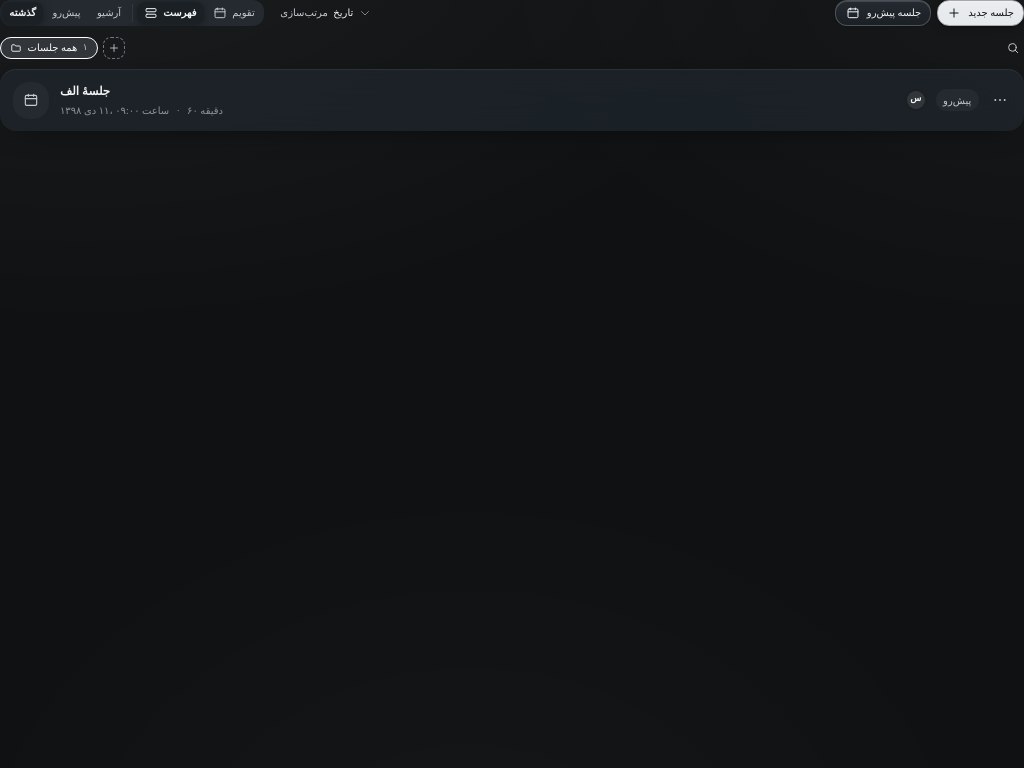
Scenario: Meetings › the row menu's two destructive entries are not the same word
Expected: the text "جلسهٔ الف" is shown, [60,84,110,98]
Click the button named "گزینه‌ها" at (1000, 100), box [990,89,1011,111]
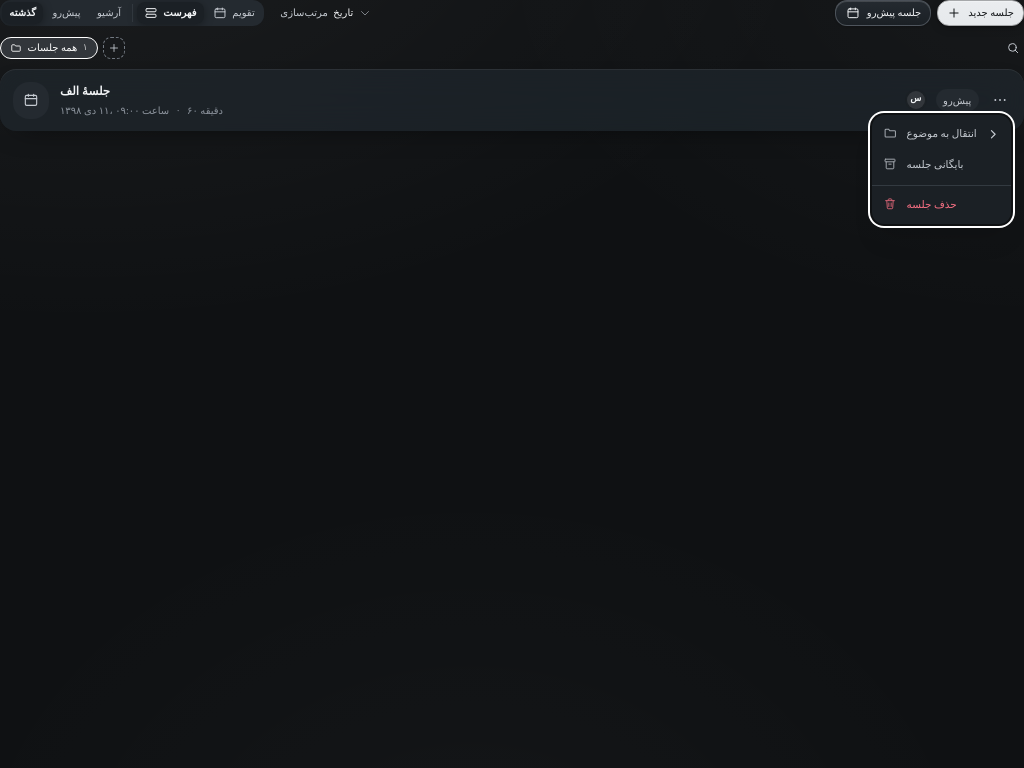
Expected: the menu item "بایگانی جلسه" does not show "حذف جلسه"
# and the confirmation agrees with the entry that opened it
Click the menu item "حذف جلسه" at (920, 204), box [883,197,957,211]
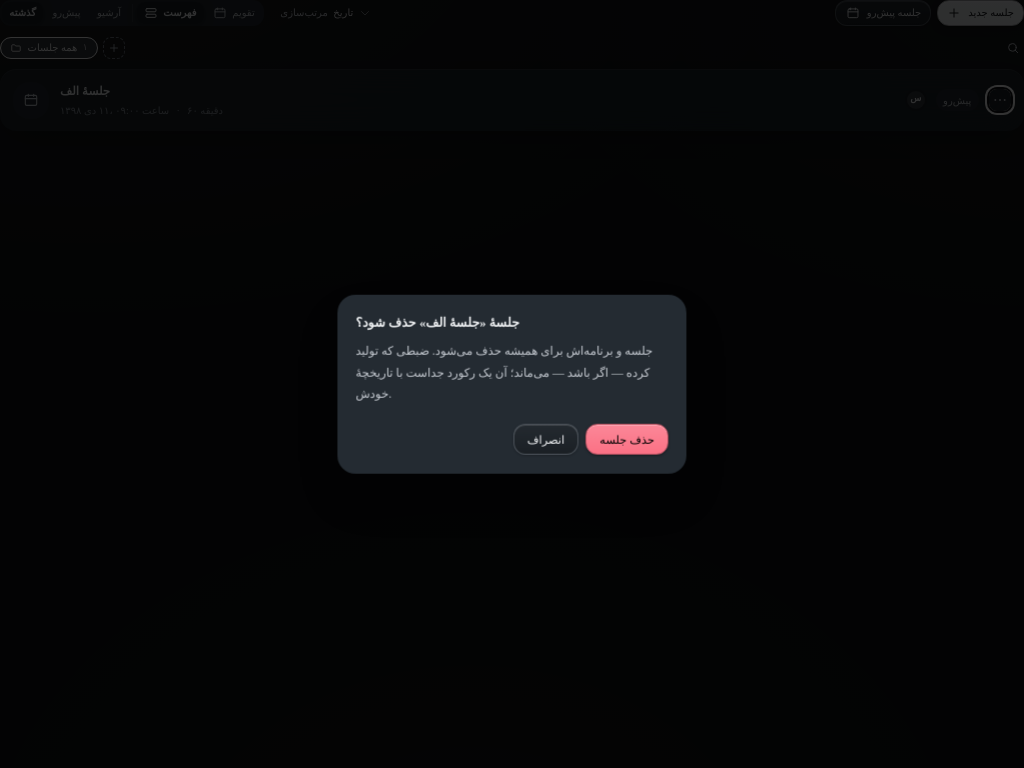
Expected: the button "حذف جلسه" is shown, [586,424,668,455]
Expected: the heading "جلسهٔ «جلسهٔ الف» حذف شود؟" is shown, [356,316,520,330]
